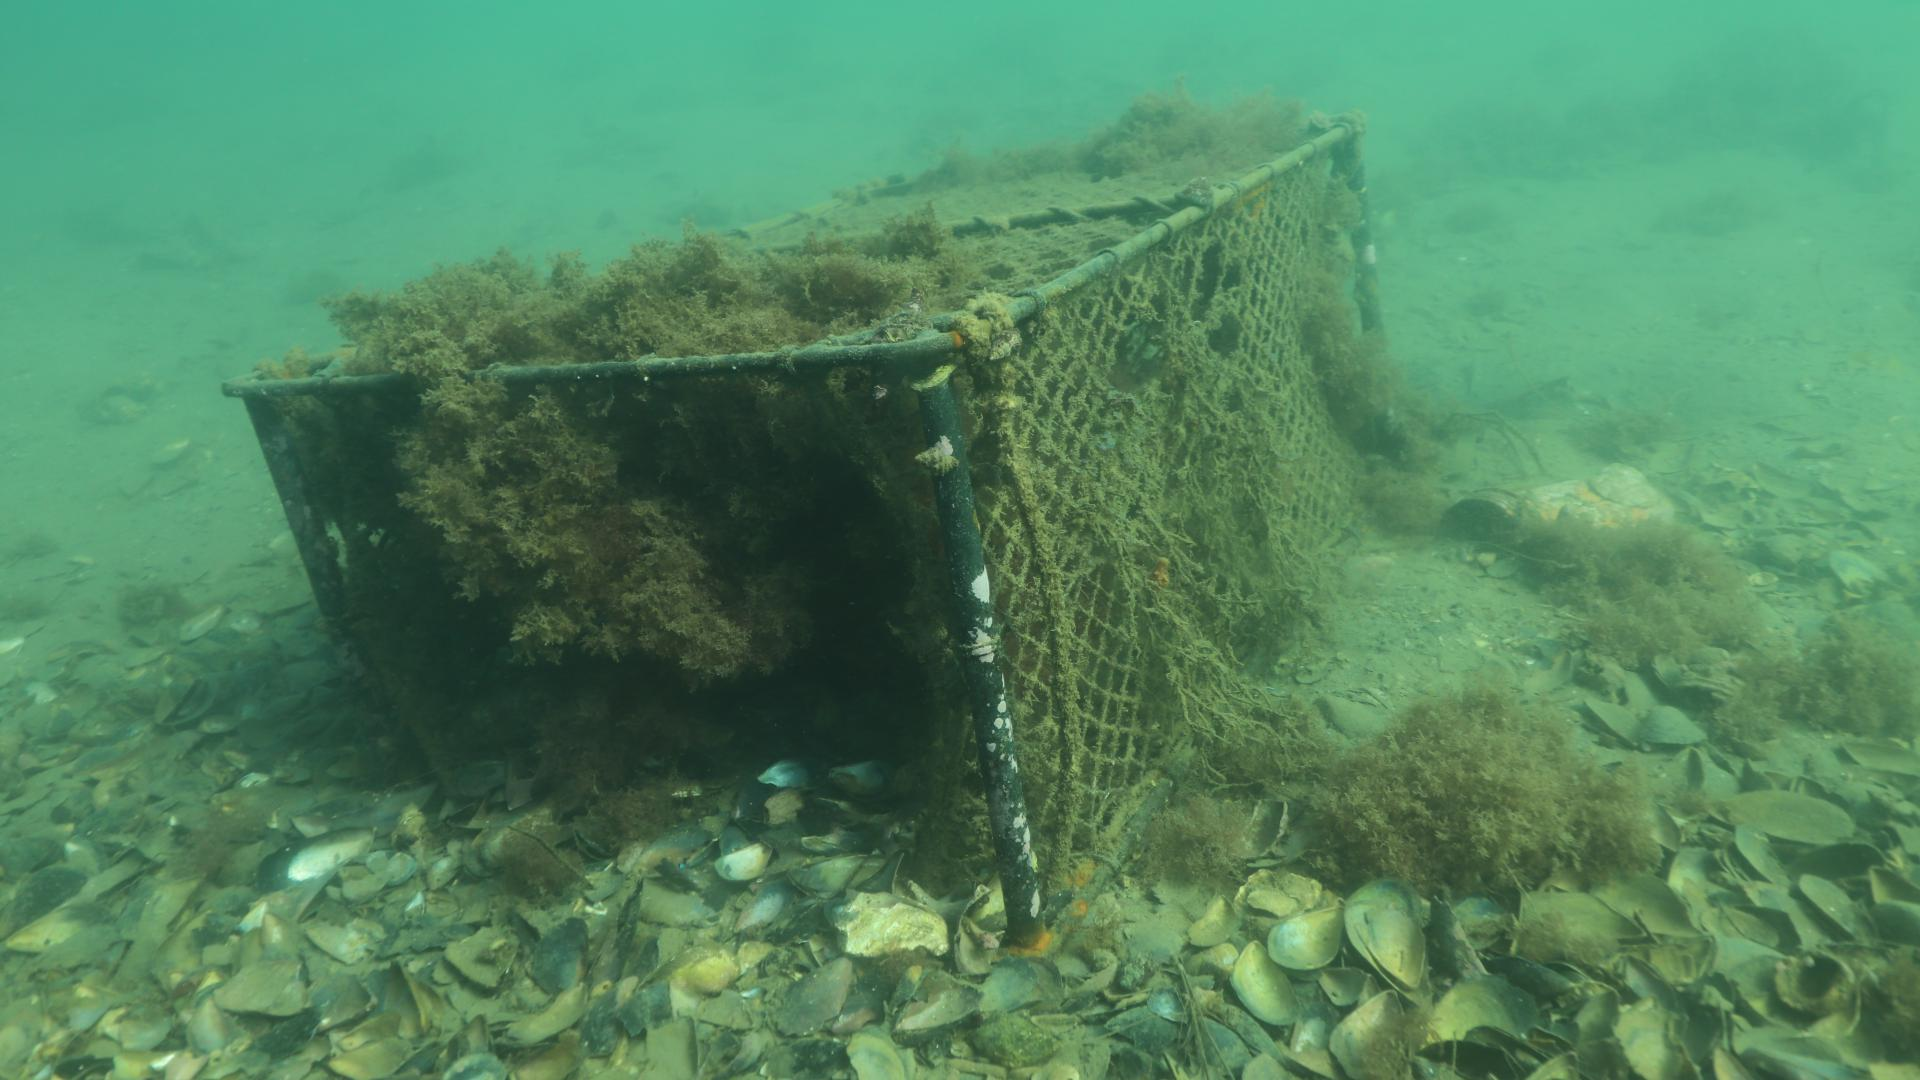rectangular fish trap: (220, 108, 1391, 963)
